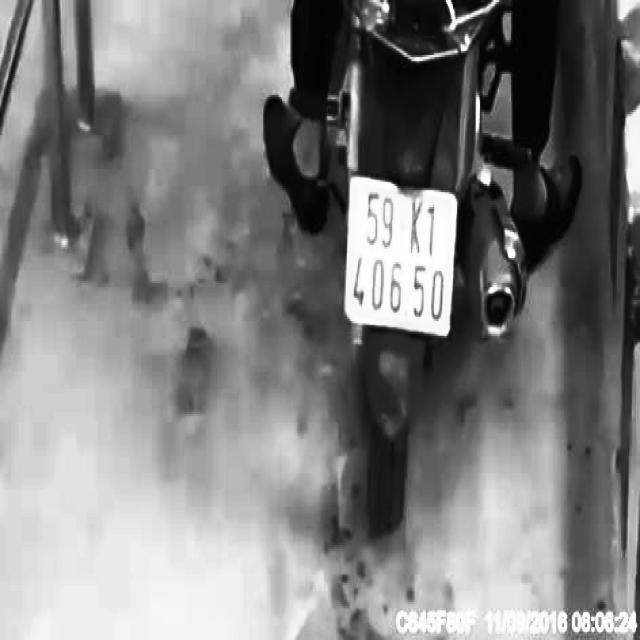license_plate: (347, 175, 461, 344)
